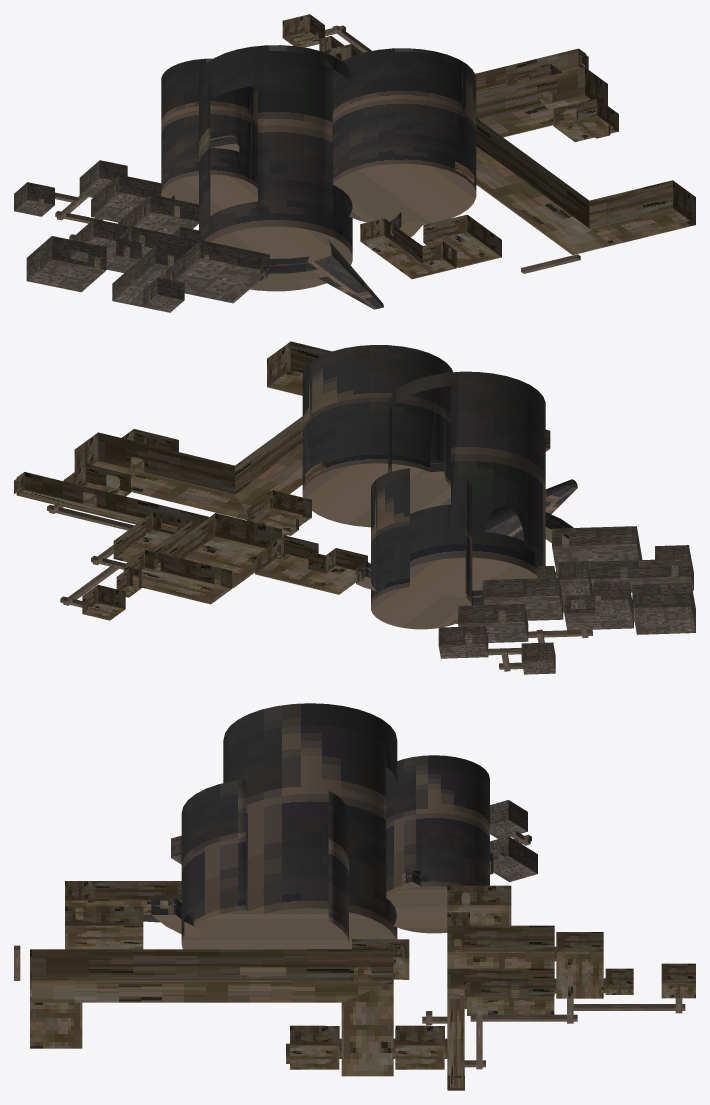
3 views of the same model, one above another, from view 1: azimuth 30°, elevation 25°; view 2: azimuth 150°, elevation 25°; view 3: azimuth 270°, elevation 25° (orthographic). The views are drawn at different scales.
Parts seen in each view (by area): view 1: CSGBakedMeshInstance3D; view 2: CSGBakedMeshInstance3D; view 3: CSGBakedMeshInstance3D.
Boxes of the visible parts, bbox=[...] form: CSGBakedMeshInstance3D: bbox=[14, 14, 695, 312]; CSGBakedMeshInstance3D: bbox=[14, 341, 695, 674]; CSGBakedMeshInstance3D: bbox=[14, 703, 695, 1090].
Bounding box in the file's own units: 183 × 53.44 × 157.
4 materials, 4 textured.
